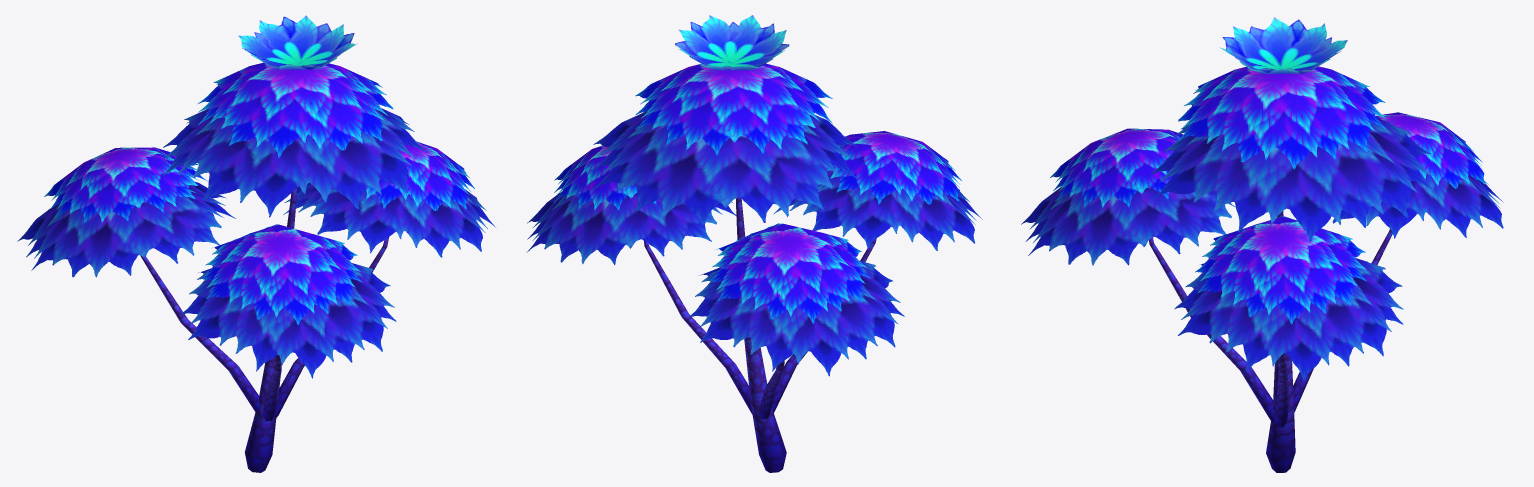
The model's file is Blue_Tree_05b.FBX.
The picture shows the model from 3 angles, left to right: view 1: azimuth 30°, elevation 25°; view 2: azimuth 150°, elevation 25°; view 3: azimuth 270°, elevation 25°; orthographic projection. The views are drawn at different scales.
Visible parts, largest first — view 1: Blue_Tree_05b; view 2: Blue_Tree_05b; view 3: Blue_Tree_05b.
Part boxes in pixels (x1,y1,x2,y2): Blue_Tree_05b: (17, 15, 495, 472); Blue_Tree_05b: (526, 15, 982, 472); Blue_Tree_05b: (1021, 17, 1503, 472).
Size of the model in its own units: 392 by 373 by 377.
